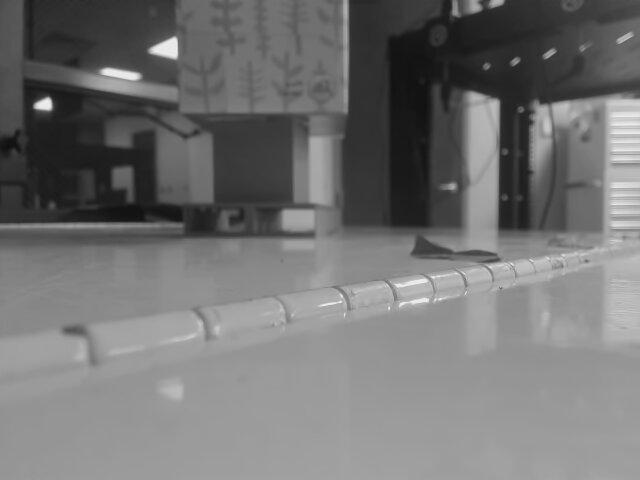grey pallet: (166, 104, 356, 250)
